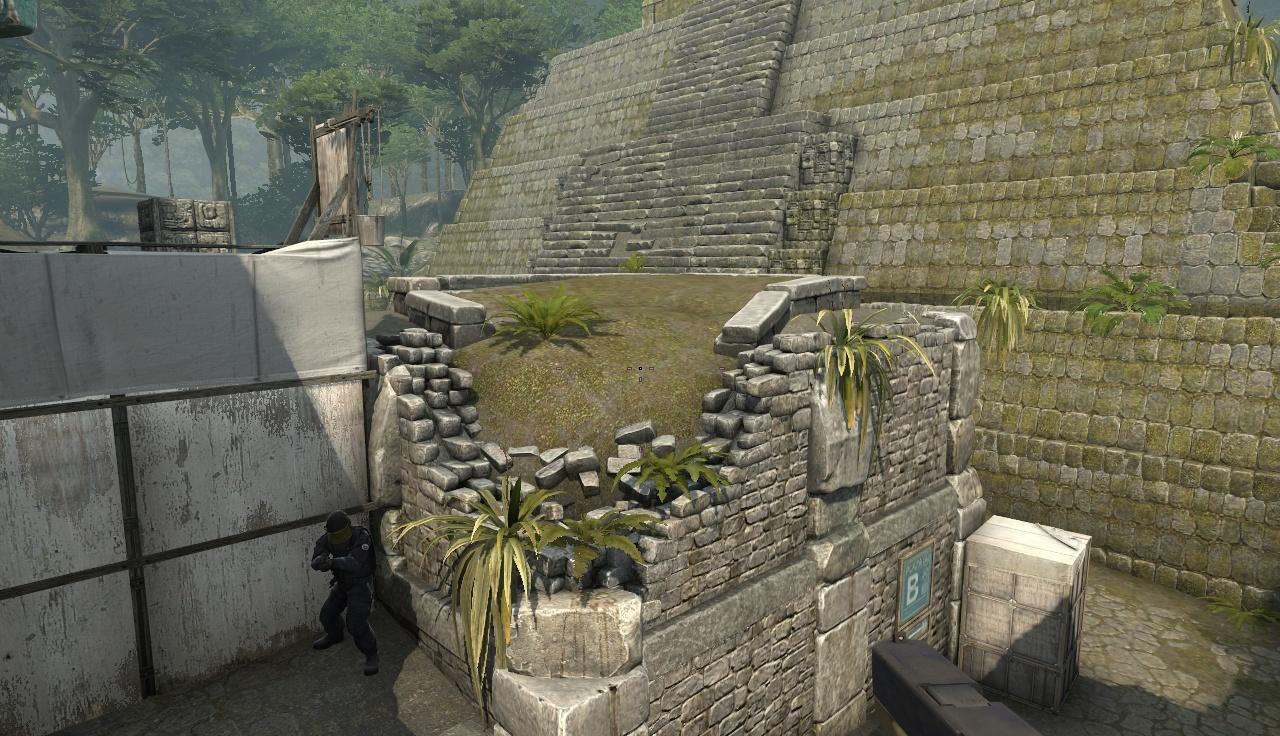ct: (314, 511, 377, 676)
cthead: (327, 512, 356, 544)
pistol: (851, 630, 1108, 736)
